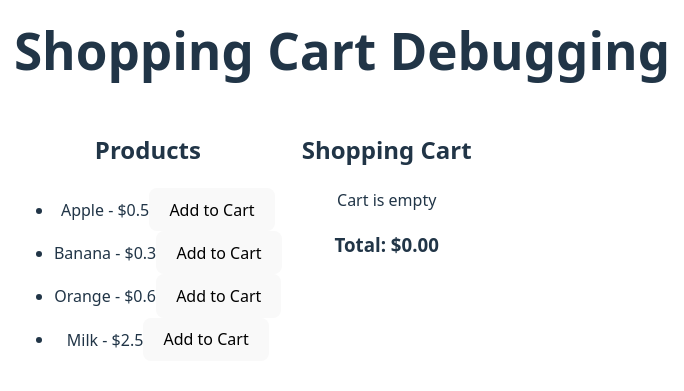
Test: ShoppingCartApp › calculates total correctly
Click the button "Add to Cart" in the row of "Apple".
click(212, 210)  # box x1=149 y1=188 x2=275 y2=231
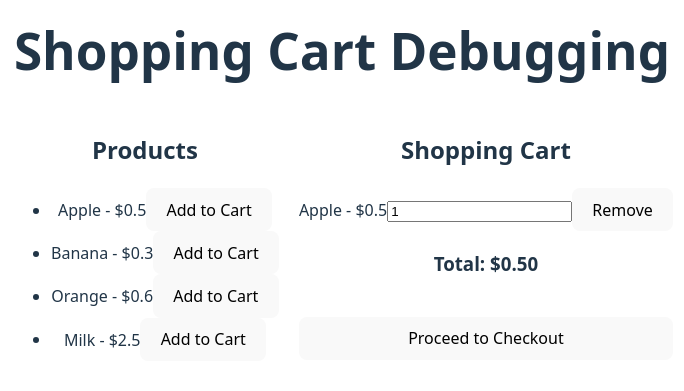
Click the 1st button "Add to Cart".
click(209, 210)  # box x1=146 y1=188 x2=272 y2=231
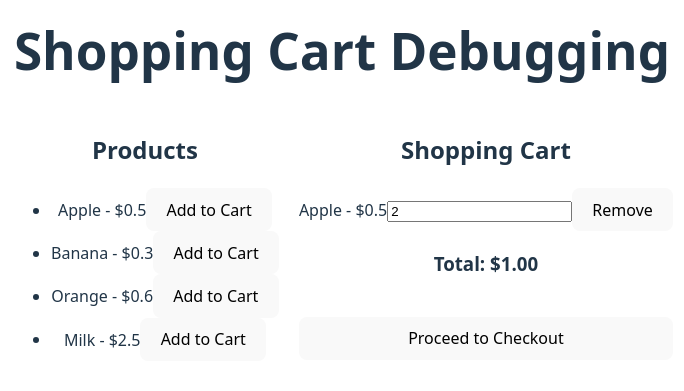
Click the button "Add to Cart" in the row of "Banana".
click(216, 253)  # box x1=153 y1=231 x2=279 y2=274
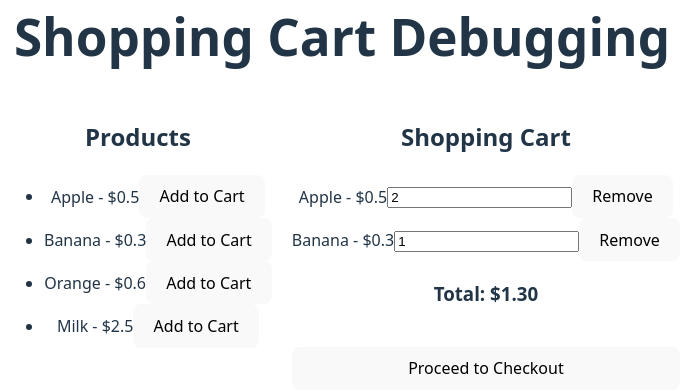
Check: the heading "Total: $1.30" is shown, box x1=434 y1=281 x2=538 y2=306
